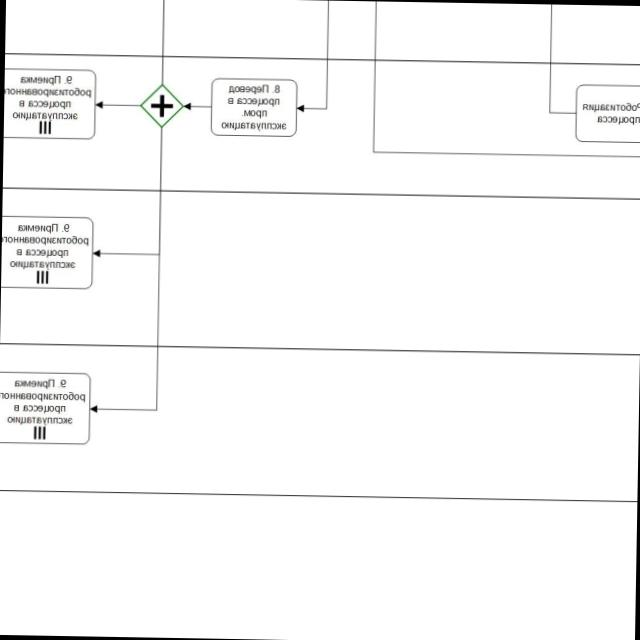arrow: (89, 126, 166, 416), (92, 126, 165, 260), (296, 0, 330, 114), (95, 99, 140, 111), (183, 101, 211, 112)
diamond: (140, 83, 184, 128)
rectangle: (210, 78, 297, 137)
